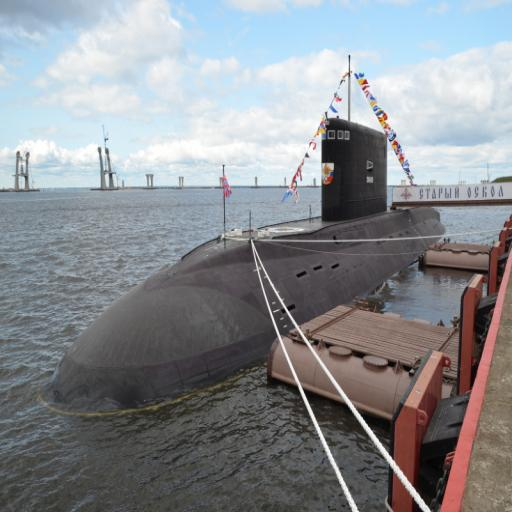submarine: (53, 110, 455, 412)
